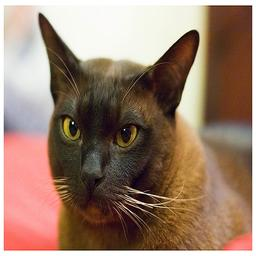cat: (128, 50, 256, 256)
